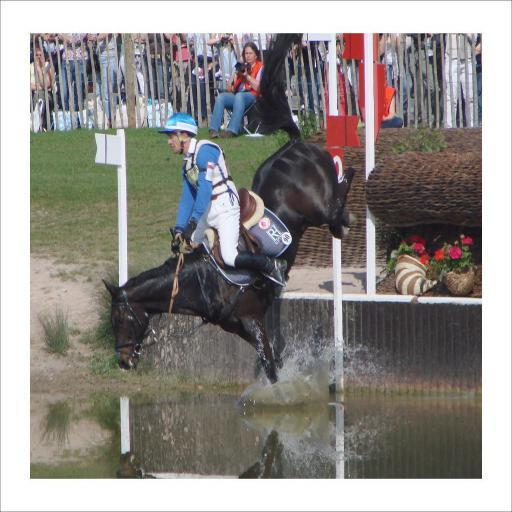horse: (100, 32, 358, 405)
